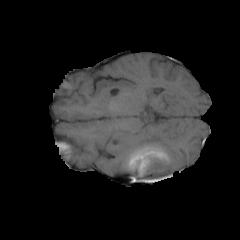glioma: (110, 135, 176, 182)
